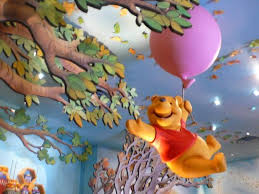Winnie: (140, 90, 193, 147)
